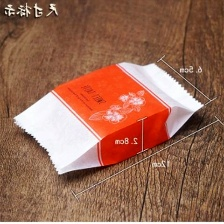snack: (8, 56, 211, 181)
